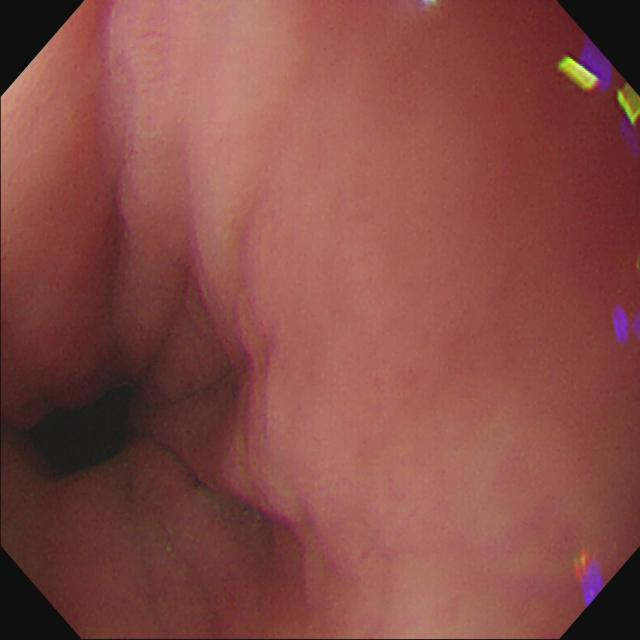E: (15, 386, 135, 475)
U: (556, 37, 640, 150), (575, 550, 605, 606)
